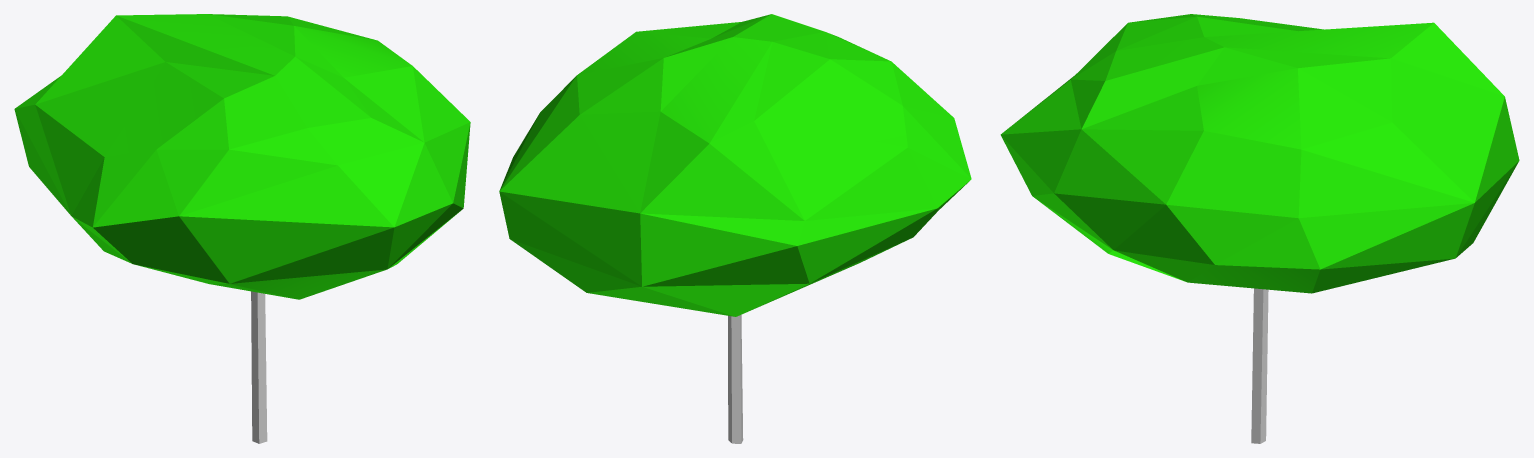
File: TropicTree.fbx
3 renders of one model, left to right at view 1: azimuth 30°, elevation 25°; view 2: azimuth 150°, elevation 25°; view 3: azimuth 270°, elevation 25°, orthographic. The views are drawn at different scales.
Visible parts, largest first — view 1: tree-round; view 2: tree-round; view 3: tree-round.
Boxes of the visible parts, x1,y1,x2,y2 form: tree-round: (14,14,470,443); tree-round: (499,14,971,443); tree-round: (1000,14,1519,443).
Size of the model in its own units: 754 by 710 by 827.
